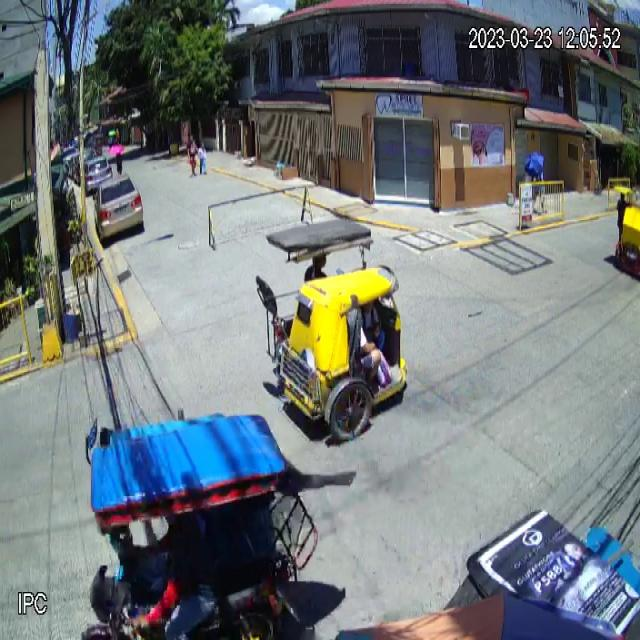Car: (92, 173, 144, 242)
Tricycle: (79, 411, 320, 640), (255, 217, 408, 440)
